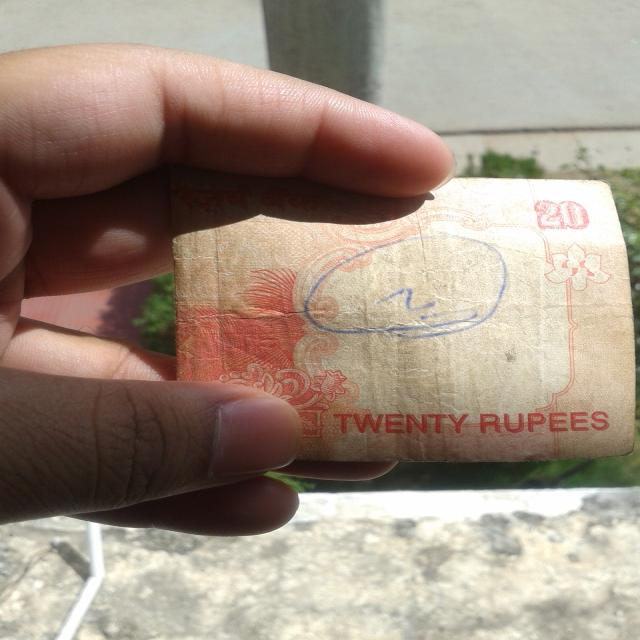200rs: (173, 175, 638, 460)
